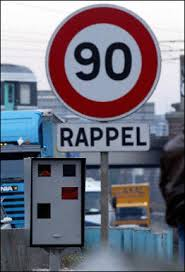Speed_limit_90km: (44, 4, 161, 121)
